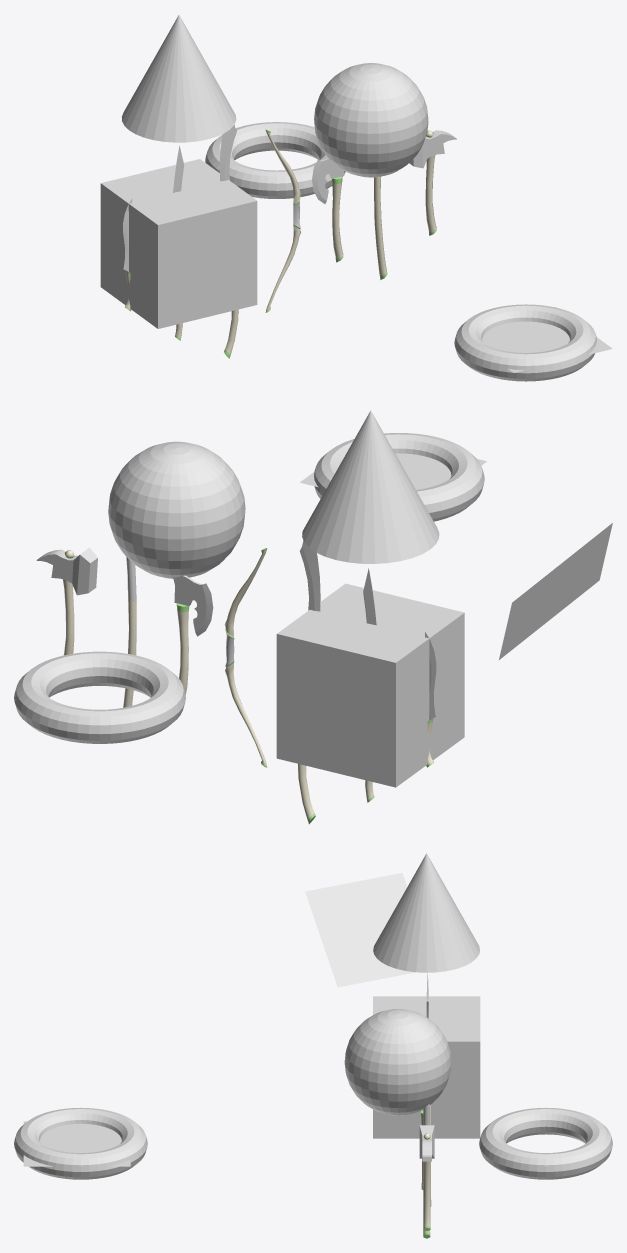
File: exportedmodel.glb
3 renders of one model, top to bottom at view 1: azimuth 30°, elevation 25°; view 2: azimuth 150°, elevation 25°; view 3: azimuth 270°, elevation 25°, orthographic. The views are drawn at different scales.
Parts seen in each view (by area): view 1: Cube, Torus (×2), Sphere, Cone, Grid, ElvenAxe, ElvenHammer, ElvenBow, ElvenPolearm, ElvenStaff; view 2: Cube, Torus (×2), Sphere, Cone, Plane, ElvenHammer, ElvenAxe, ElvenBow, Grid, ElvenPolearm, ElvenStaff, ElvenShortSword (+1 smaller); view 3: Torus (×2), Sphere, Cube, Cone, Plane, Grid, ElvenHammer.
Boxes of the visible parts, x1=… form: Cube: x1=100, y1=159, x2=257, y2=328; Torus (×2): x1=205, y1=122, x2=596, y2=381; Sphere: x1=314, y1=63, x2=428, y2=177; Cone: x1=122, y1=15, x2=236, y2=142; Grid: x1=456, y1=307, x2=612, y2=372; ElvenAxe: x1=312, y1=158, x2=344, y2=262; ElvenHammer: x1=409, y1=130, x2=456, y2=235; ElvenBow: x1=265, y1=129, x2=300, y2=312; ElvenPolearm: x1=219, y1=125, x2=238, y2=358; ElvenStaff: x1=374, y1=176, x2=387, y2=279; Cube: x1=276, y1=583, x2=464, y2=787; Torus (×2): x1=14, y1=433, x2=484, y2=743; Sphere: x1=108, y1=441, x2=245, y2=578; Cone: x1=302, y1=410, x2=439, y2=563; Plane: x1=499, y1=523, x2=612, y2=659; ElvenHammer: x1=36, y1=547, x2=97, y2=655; ElvenAxe: x1=173, y1=575, x2=213, y2=694; ElvenBow: x1=224, y1=548, x2=267, y2=767; Grid: x1=300, y1=453, x2=486, y2=489; ElvenPolearm: x1=298, y1=540, x2=320, y2=824; ElvenStaff: x1=123, y1=556, x2=136, y2=707; ElvenShortSword: x1=425, y1=632, x2=436, y2=767; Torus (×2): x1=14, y1=1107, x2=612, y2=1179; Sphere: x1=344, y1=1009, x2=451, y2=1115; Cube: x1=373, y1=996, x2=480, y2=1138; Cone: x1=373, y1=853, x2=479, y2=972; Plane: x1=305, y1=873, x2=415, y2=987; Grid: x1=23, y1=1121, x2=130, y2=1166; ElvenHammer: x1=419, y1=1125, x2=434, y2=1230.
Size of the model in its own units: 9.13 by 6.88 by 11.19.
